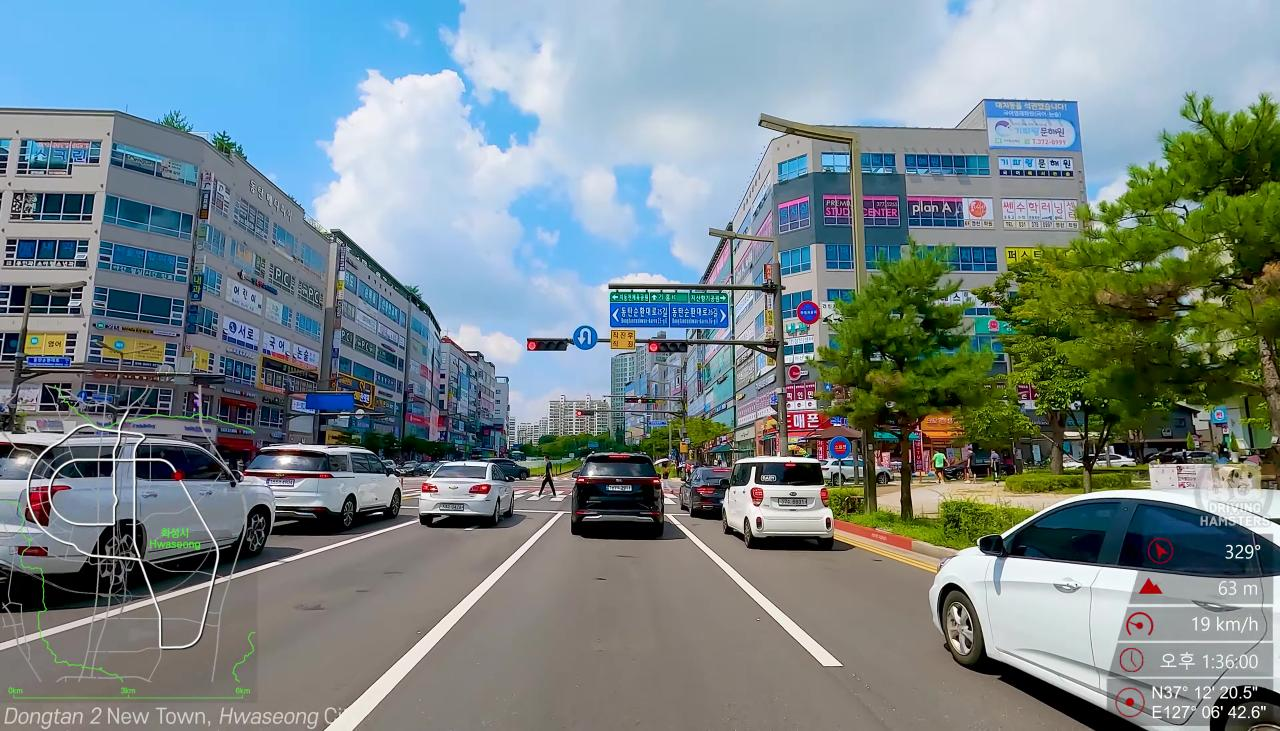Red Light: (527, 340, 536, 350), (648, 343, 658, 352), (577, 411, 581, 415)
